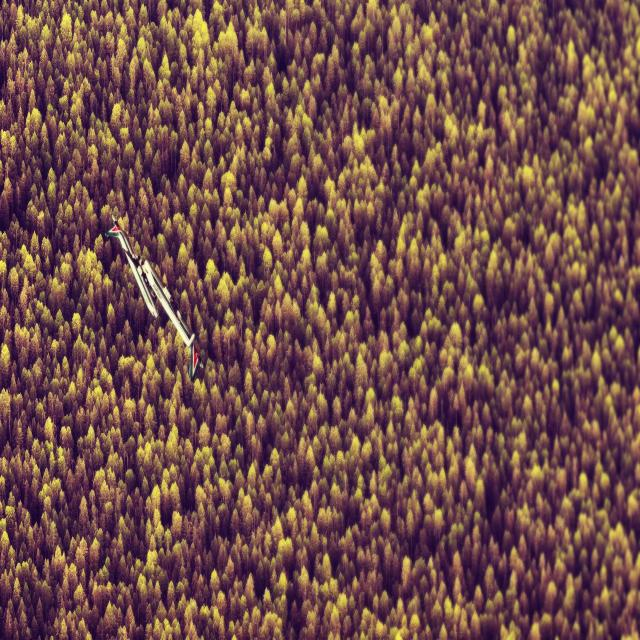airplane: (104, 218, 200, 381)
